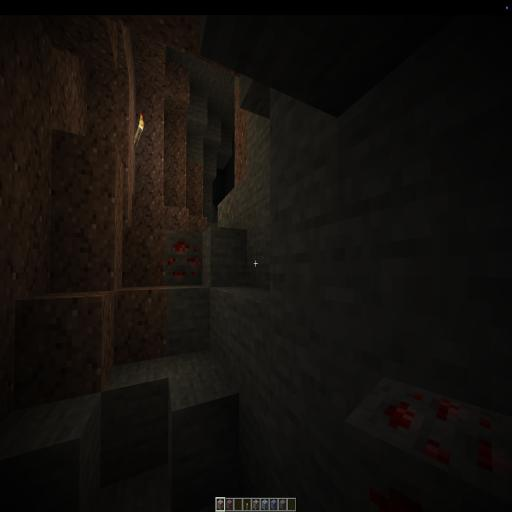redstone ore: (166, 231, 206, 288)
